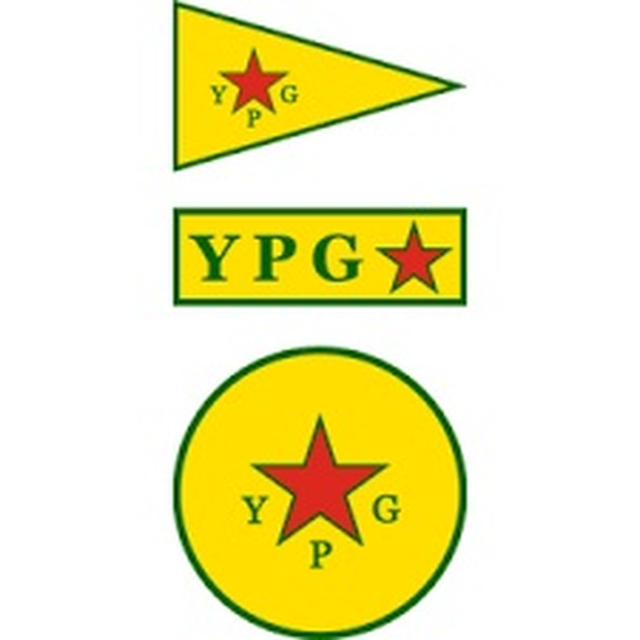YPG: (229, 411, 407, 575), (187, 225, 451, 297), (208, 39, 301, 130)
